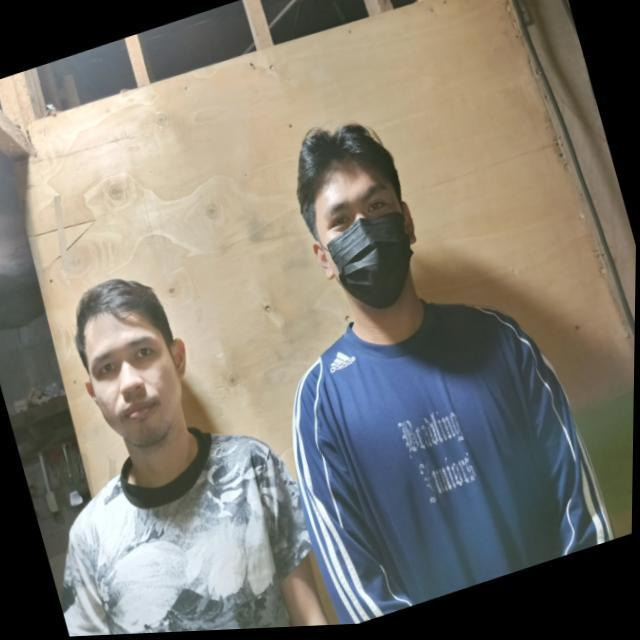Nonhelmet: (293, 120, 421, 311), (70, 269, 195, 457)
